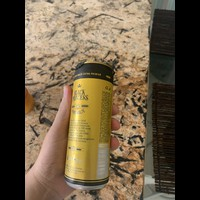blackprincess: (63, 62, 114, 191)
